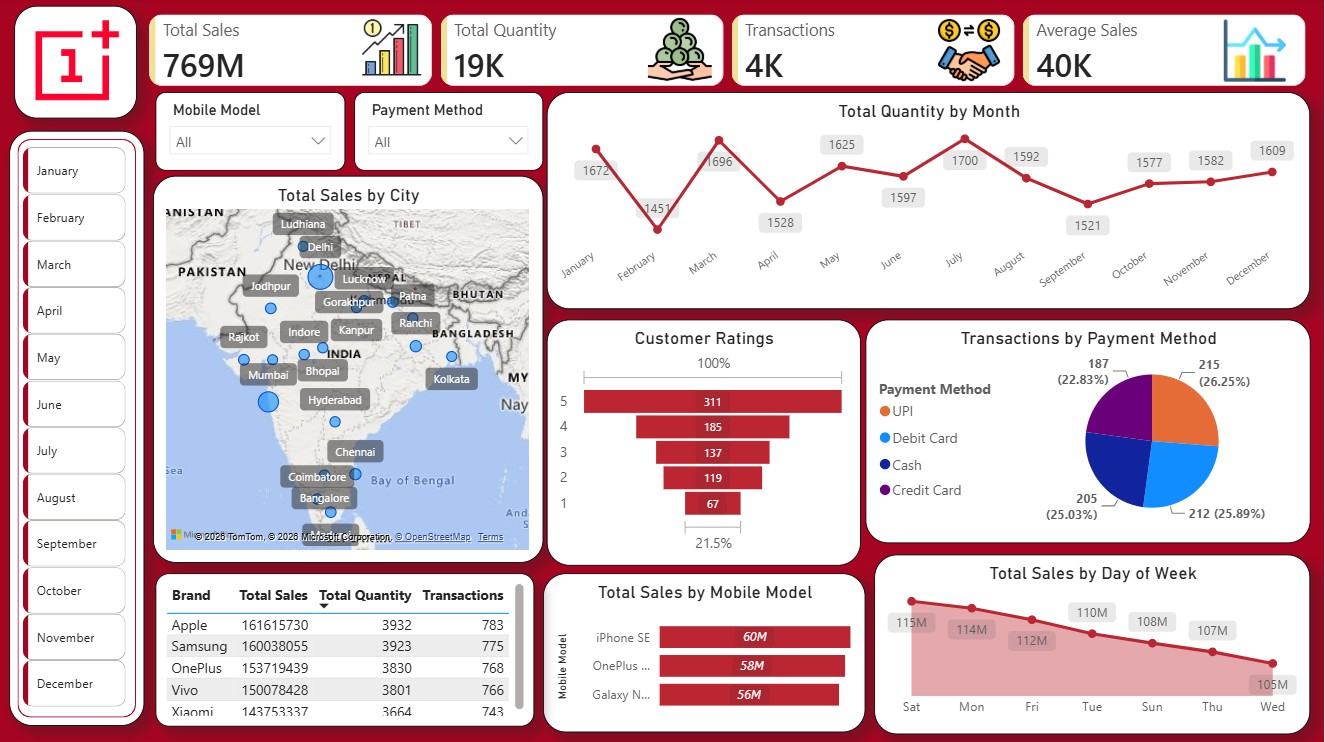

The page's visual inventory and layout, read from the dashboard file:
{"tool":"powerbi","page":{"name":"PROJECT 1","canvas":[1280,720],"ordinal":0},"visuals":[{"type":"shape","box":[15.7,8.4,118.2,108.6],"z":0},{"type":"shape","box":[10.9,129.1,130.3,574.3],"z":1000},{"type":"image","box":[30.2,8.4,91.7,109.8],"z":2000},{"type":"advancedSlicerVisual","fields":{"Values":["Sales_Data.Date.Variation.Date Hierarchy.Month"]},"box":[19.3,139.9,109.8,555],"z":3000},{"type":"cardVisual","fields":{"Data":["Sales_Data.Total Sales","Sales_Data.Total Quantity","Sales_Data.Transactions","Sales_Data.Average"]},"box":[129.1,0,1150.9,103.8],"z":4000},{"type":"image","box":[306.4,13.3,147.2,74.8],"z":5000},{"type":"image","box":[606.8,18.1,102.5,65.1],"z":6000},{"type":"image","box":[898.8,19.3,77.2,63.9],"z":7000},{"type":"image","box":[1170.2,21.7,85.7,60.3],"z":8000},{"type":"map","fields":{"Category":["Sales_Data.City"],"Size":["Sales_Data.Total Sales"]},"box":[149.6,172.5,376.4,374],"z":9000},{"type":"lineChart","fields":{"Y":["Sales_Data.Total Quantity"],"Category":["Sales_Data.Date.Variation.Date Hierarchy.Month","Sales_Data.Date.Variation.Date Hierarchy.Day"]},"box":[529.6,91.7,737.1,209.9],"z":10000},{"type":"clusteredBarChart","fields":{"Category":["Sales_Data.Mobile Model"],"Y":["Sales_Data.Total Sales"]},"box":[526,556.2,311.3,153.2],"z":11000},{"type":"pieChart","fields":{"Category":["Sales_Data.Payment Method"],"Y":["Sales_Data.Transactions"]},"box":[837.3,311.3,429.5,216],"z":12000},{"type":"funnel","title":" Customer Ratings ","fields":{"Category":["Sales_Data.Customer Ratings"],"Y":["CountNonNull(Sales_Data.Customer Ratings)"]},"box":[529.6,311.3,302.8,237.7],"z":13000},{"type":"areaChart","fields":{"Y":["Sales_Data.Total Sales"],"Category":["Sales_Data.Day Short"]},"box":[845.7,538.1,421,173.7],"z":14000},{"type":"tableEx","fields":{"Values":["Sales_Data.Brand","Sales_Data.Total Sales","Sales_Data.Total Quantity","Sales_Data.Transactions"]},"box":[151.8,556.7,365.9,147.9],"z":15000},{"type":"slicer","fields":{"Values":["Sales_Data.Mobile Model"]},"box":[152,91.7,183.4,76],"z":16000},{"type":"slicer","fields":{"Values":["Sales_Data.Payment Method"]},"box":[343.8,91.7,182.2,76],"z":17000}]}

Visuals, with their boxes in screenshot pixels (x1, y1, x2, y2), scaled from the page's 1280x720 canvas onto the 1325x742 screenshot:
shape: bbox(16, 9, 139, 121)
shape: bbox(11, 133, 146, 725)
image: bbox(31, 9, 126, 122)
advancedSlicerVisual - Sales_Data.Date.Variation.Date Hierarchy.Month: bbox(20, 144, 134, 716)
cardVisual - Sales_Data.Total Sales x Sales_Data.Total Quantity: bbox(134, 0, 1324, 107)
image: bbox(317, 14, 470, 91)
image: bbox(628, 19, 734, 86)
image: bbox(930, 20, 1010, 86)
image: bbox(1211, 22, 1300, 85)
map - Sales_Data.City x Sales_Data.Total Sales: bbox(155, 178, 544, 563)
lineChart - Sales_Data.Total Quantity x Sales_Data.Date.Variation.Date Hierarchy.Month: bbox(548, 95, 1311, 311)
clusteredBarChart - Sales_Data.Mobile Model x Sales_Data.Total Sales: bbox(544, 573, 867, 731)
pieChart - Sales_Data.Payment Method x Sales_Data.Transactions: bbox(867, 321, 1311, 543)
" Customer Ratings " funnel: bbox(548, 321, 862, 566)
areaChart - Sales_Data.Total Sales x Sales_Data.Day Short: bbox(875, 555, 1311, 734)
tableEx - Sales_Data.Brand x Sales_Data.Total Sales: bbox(157, 574, 536, 726)
slicer - Sales_Data.Mobile Model: bbox(157, 95, 347, 173)
slicer - Sales_Data.Payment Method: bbox(356, 95, 544, 173)
